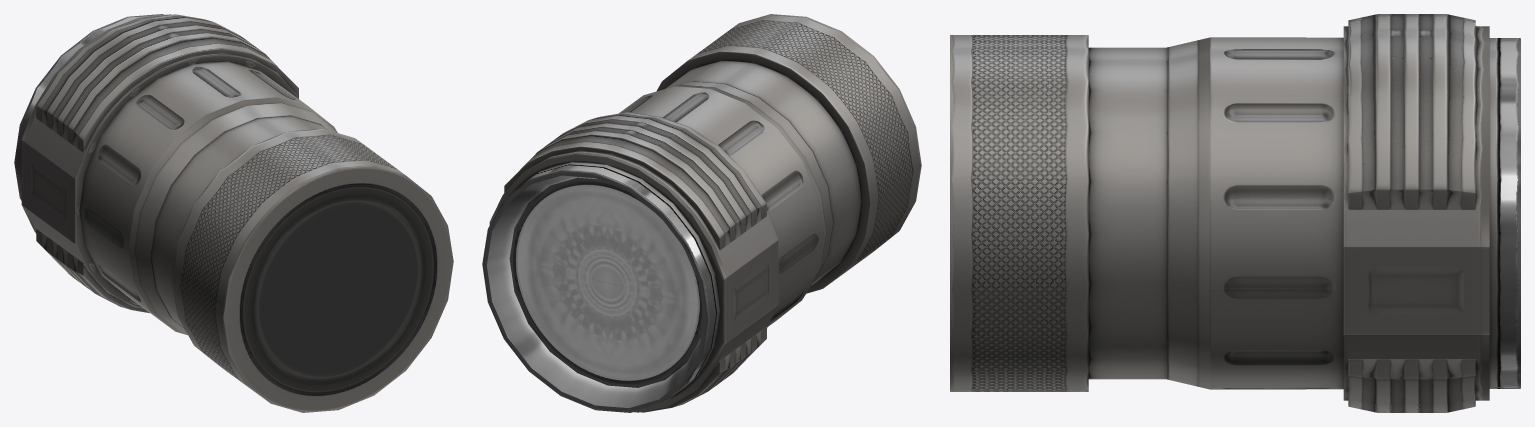
Rendered from spotlight.dae.
The picture shows the model from 3 angles, left to right: view 1: azimuth 30°, elevation 25°; view 2: azimuth 150°, elevation 25°; view 3: azimuth 270°, elevation 25°; orthographic projection. The views are drawn at different scales.
Parts seen in each view (by area): view 1: Spotlight_Drone; view 2: Spotlight_Drone; view 3: Spotlight_Drone.
Part boxes in pixels (box(x1,y1,x2,y2)): Spotlight_Drone: box(14, 14, 453, 412); Spotlight_Drone: box(482, 14, 921, 412); Spotlight_Drone: box(950, 14, 1520, 412).
Bounding box in the file's own units: 4.5 × 7 × 4.9.
